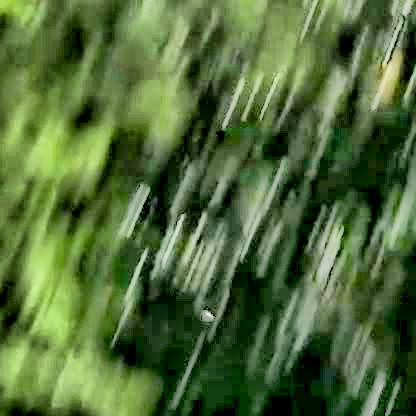golfball: (201, 303, 212, 321)
